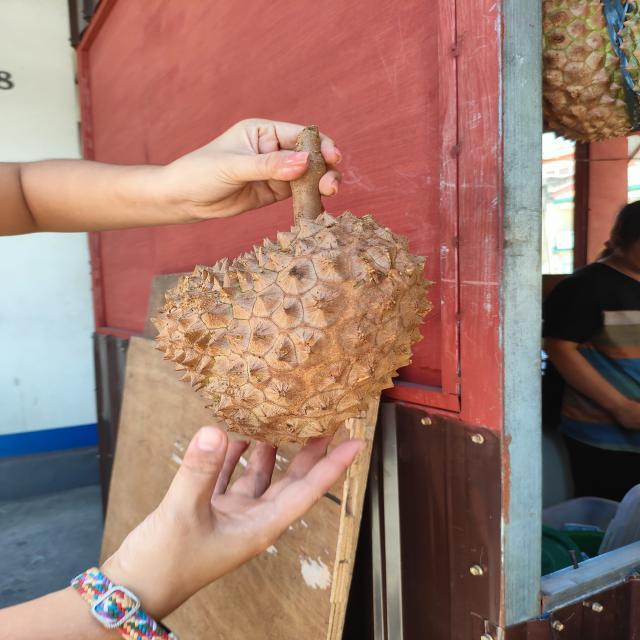mature: (143, 206, 435, 448)
